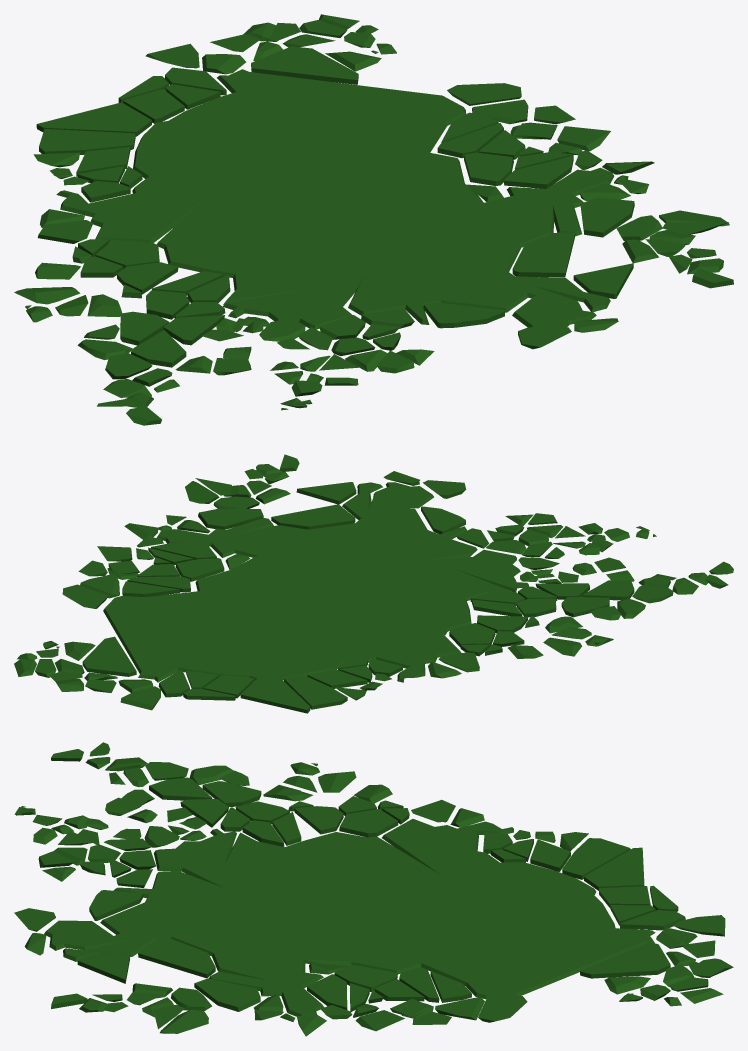
Rendered from caopi2.FBX.
3 renders of one model, top to bottom at view 1: azimuth 30°, elevation 25°; view 2: azimuth 150°, elevation 25°; view 3: azimuth 270°, elevation 25°, orthographic. The views are drawn at different scales.
Parts seen in each view (by area): view 1: Tarmac001; view 2: Tarmac001; view 3: Tarmac001.
Boxes of the visible parts, left/top/right/bottom form: Tarmac001: left=14, top=14, right=733, bottom=425; Tarmac001: left=14, top=454, right=733, bottom=713; Tarmac001: left=14, top=742, right=733, bottom=1036.
Size of the model in its own units: 6.08 by 0.0419 by 6.36.
